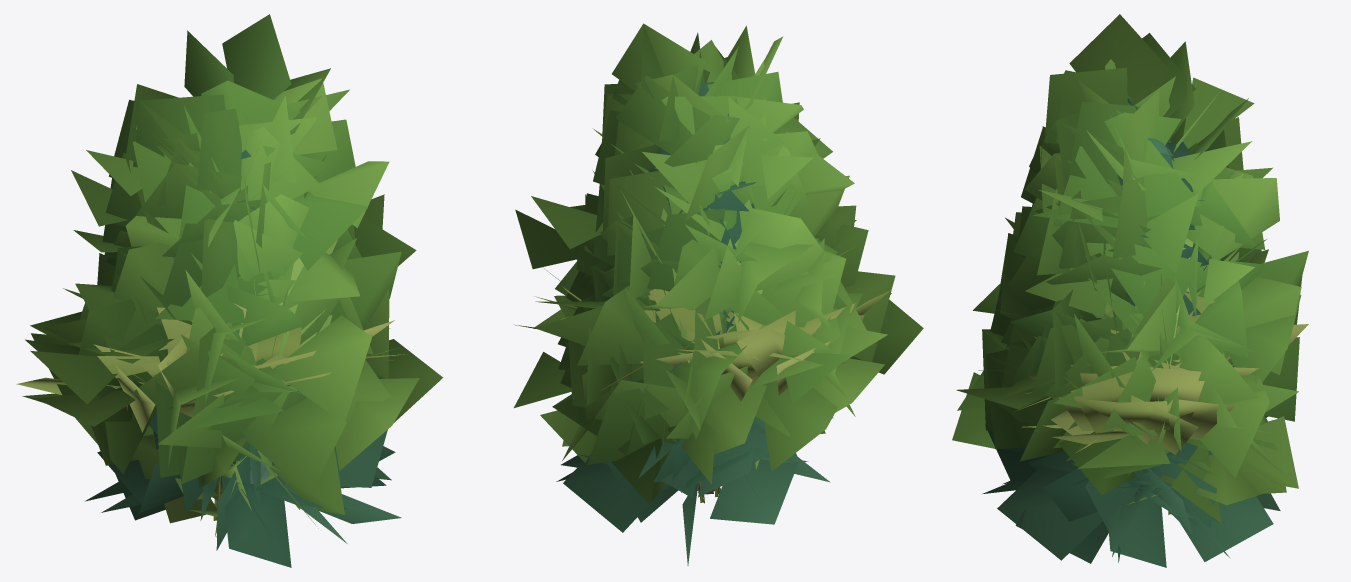
File: treeit_set.glb
3 views of the same model, side by side, from view 1: azimuth 30°, elevation 25°; view 2: azimuth 150°, elevation 25°; view 3: azimuth 270°, elevation 25° (orthographic). The views are drawn at different scales.
Parts seen in each view (by area): view 1: beech_lod0, elm_lod0, fir_lod0, acacia_lod0, bamboo_lod0; view 2: beech_lod0, elm_lod0, fir_lod0, acacia_lod0; view 3: beech_lod0, elm_lod0, fir_lod0, acacia_lod0, bamboo_lod0.
Boxes of the visible parts, x1,y1,x2,y2 form: beech_lod0: (22,78,443,528); elm_lod0: (91,14,330,484); fir_lod0: (84,117,401,567); acacia_lod0: (16,303,404,432); bamboo_lod0: (135,239,337,537); beech_lod0: (514,40,923,503); elm_lod0: (558,23,841,494); fir_lod0: (556,82,833,565); acacia_lod0: (535,247,890,401); beech_lod0: (952,59,1308,523); elm_lod0: (982,14,1268,461); fir_lod0: (982,98,1280,567); acacia_lod0: (1005,292,1308,454); bamboo_lod0: (1071,237,1240,514).
Size of what is drawn, in the model's own units: 13.06 by 16.06 by 11.3.
